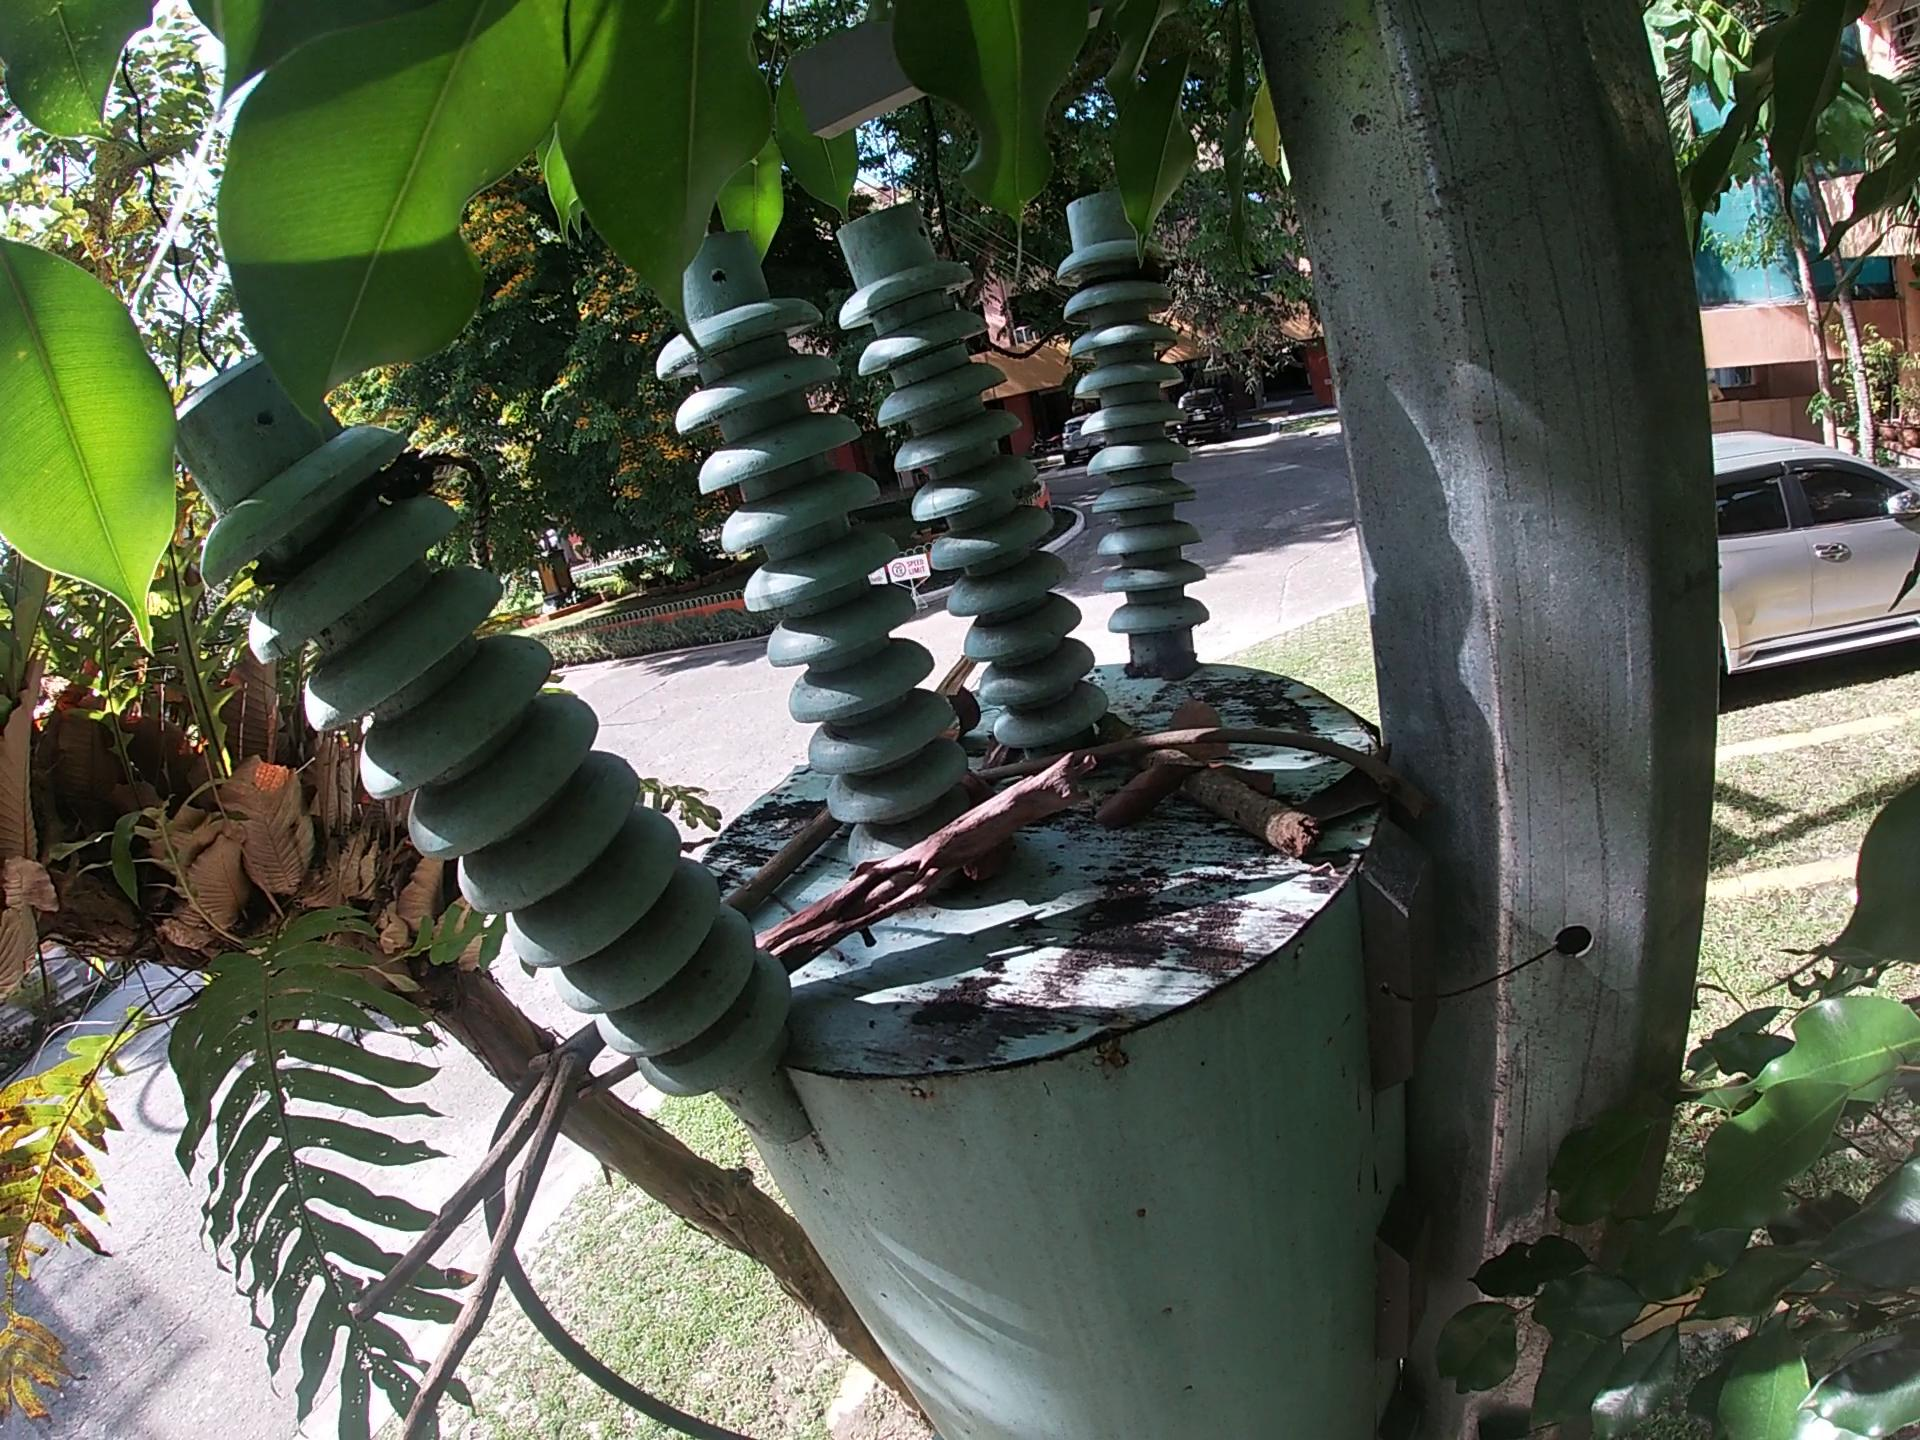leaf: (1095, 755, 1185, 818), (1175, 696, 1256, 765)
mahogany fruit: (946, 687, 980, 731)
tree branch: (222, 1027, 626, 1432), (753, 738, 1101, 957), (1101, 728, 1324, 867), (971, 725, 1411, 781), (736, 808, 842, 906), (934, 646, 987, 735)
